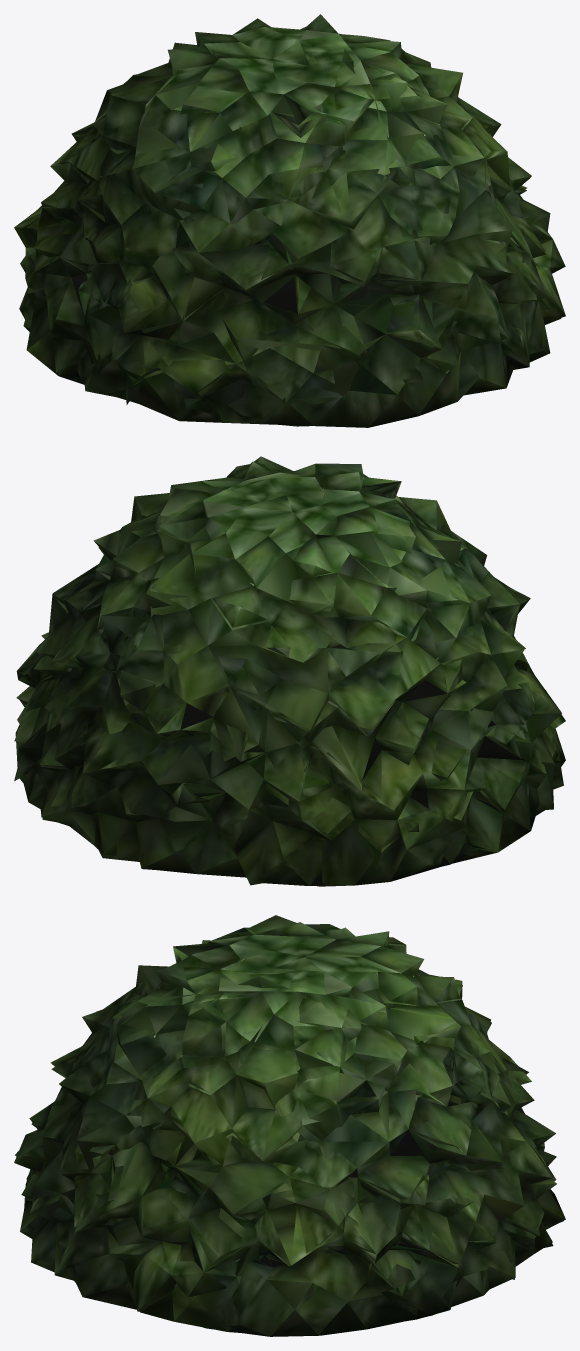
The model's file is bush-1.glb.
The picture shows the model from 3 angles, top to bottom: view 1: azimuth 30°, elevation 25°; view 2: azimuth 150°, elevation 25°; view 3: azimuth 270°, elevation 25°; orthographic projection. The views are drawn at different scales.
Parts seen in each view (by area): view 1: terrain-bush-1; view 2: terrain-bush-1; view 3: terrain-bush-1.
Part boxes in pixels (<box>): terrain-bush-1: <box>14,14,565,427</box>; terrain-bush-1: <box>14,456,565,886</box>; terrain-bush-1: <box>14,915,565,1336</box>.
Size of the model in its own units: 0.2943 by 0.157 by 0.2957.
1 material, 1 textured.
